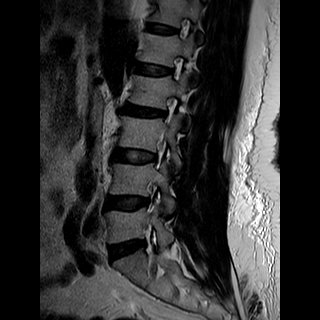RFS0: (159, 87, 182, 131), (165, 48, 187, 85)
